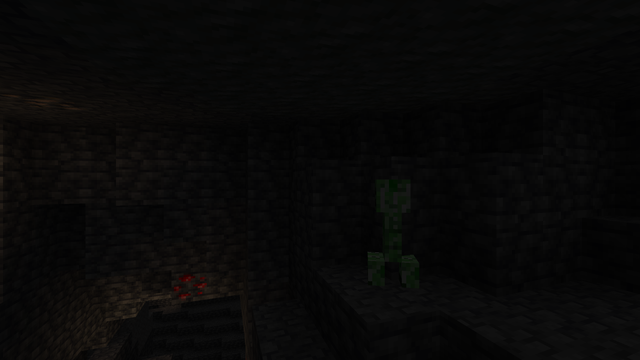creepers: (365, 174, 418, 290)
